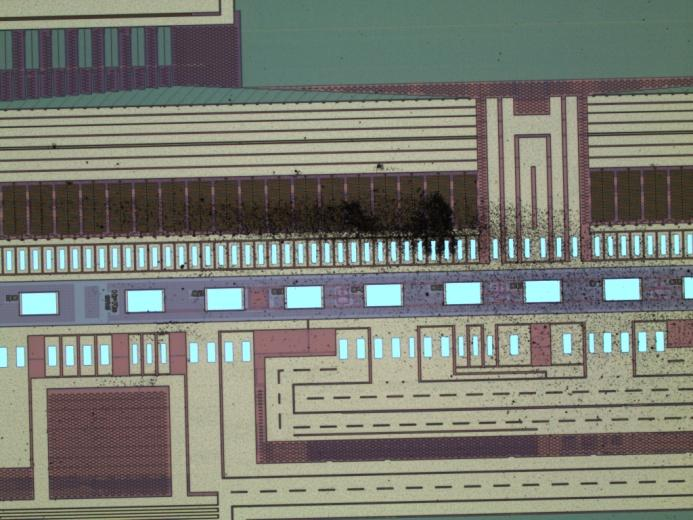PO CONTAMINATION: (42, 49, 693, 444)
